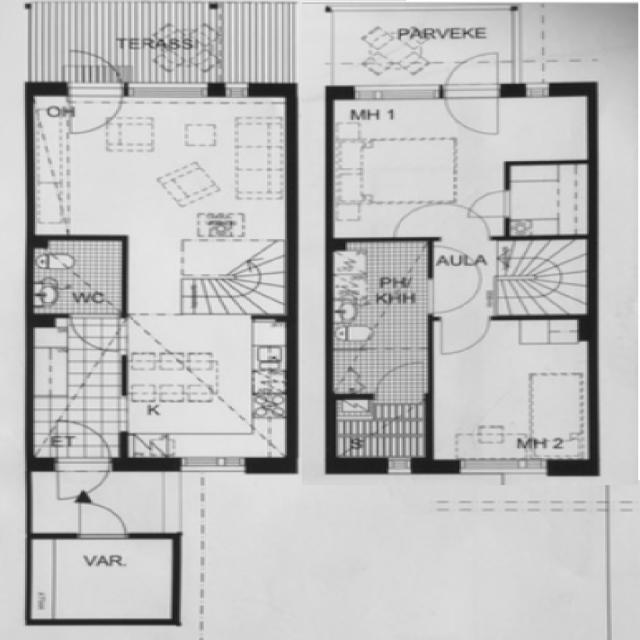door: (326, 234, 438, 391), (43, 418, 116, 503), (439, 49, 506, 138), (64, 52, 126, 136), (65, 307, 129, 358), (416, 272, 483, 318), (370, 358, 432, 402), (72, 497, 132, 542), (432, 316, 495, 358), (468, 188, 514, 221)
window: (450, 456, 554, 478), (125, 80, 215, 104), (172, 452, 255, 478), (347, 83, 444, 104), (382, 454, 419, 476), (520, 77, 556, 98), (218, 79, 256, 98)
zone: (30, 92, 295, 240), (120, 314, 289, 464), (330, 92, 496, 239), (431, 319, 594, 466), (326, 238, 435, 395), (28, 316, 128, 460), (25, 536, 177, 624), (30, 237, 126, 316), (330, 394, 429, 466), (506, 162, 593, 238)
